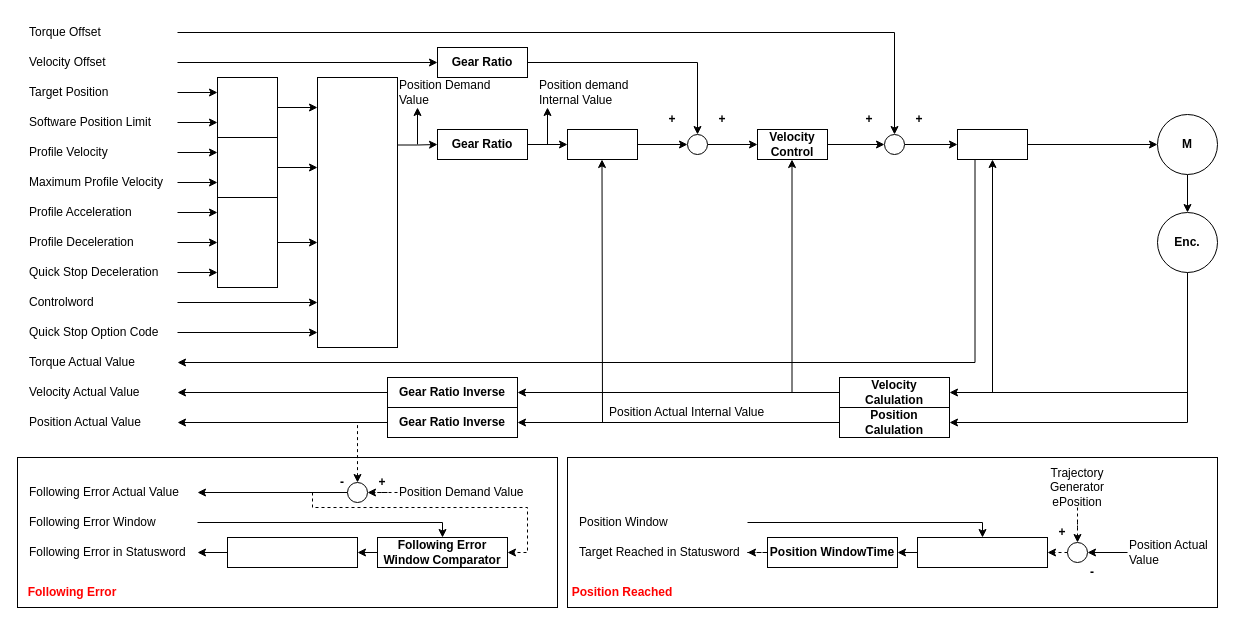
Some shapes in this 1235 by 625 pixel diagram are drawn without their labels. The box of each missing label's shape, as (x1, y1, x2, y2) in pixels:
Following Error Timeout: (226, 536, 358, 568)
Position Control: (566, 128, 638, 160)
Position Reached Window Comparator: (916, 536, 1048, 568)
Torque Control: (956, 128, 1028, 160)
Trajectory Generator: (316, 76, 398, 348)
